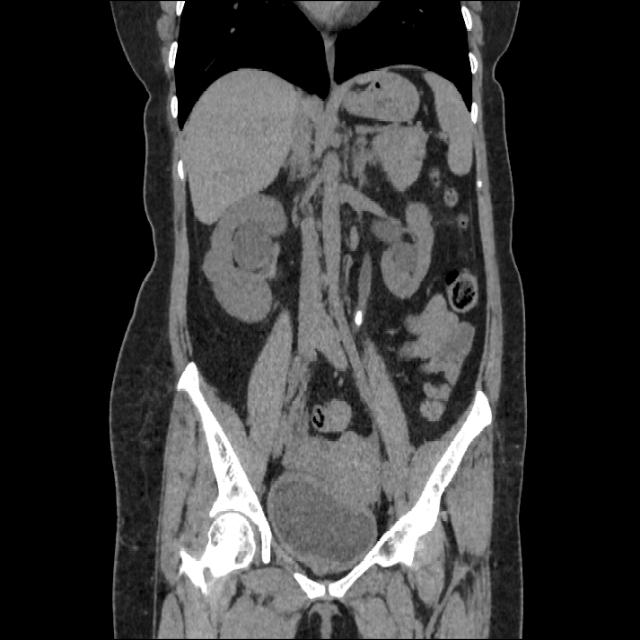kidney: (199, 198, 293, 324)
stone: (354, 309, 365, 330)
